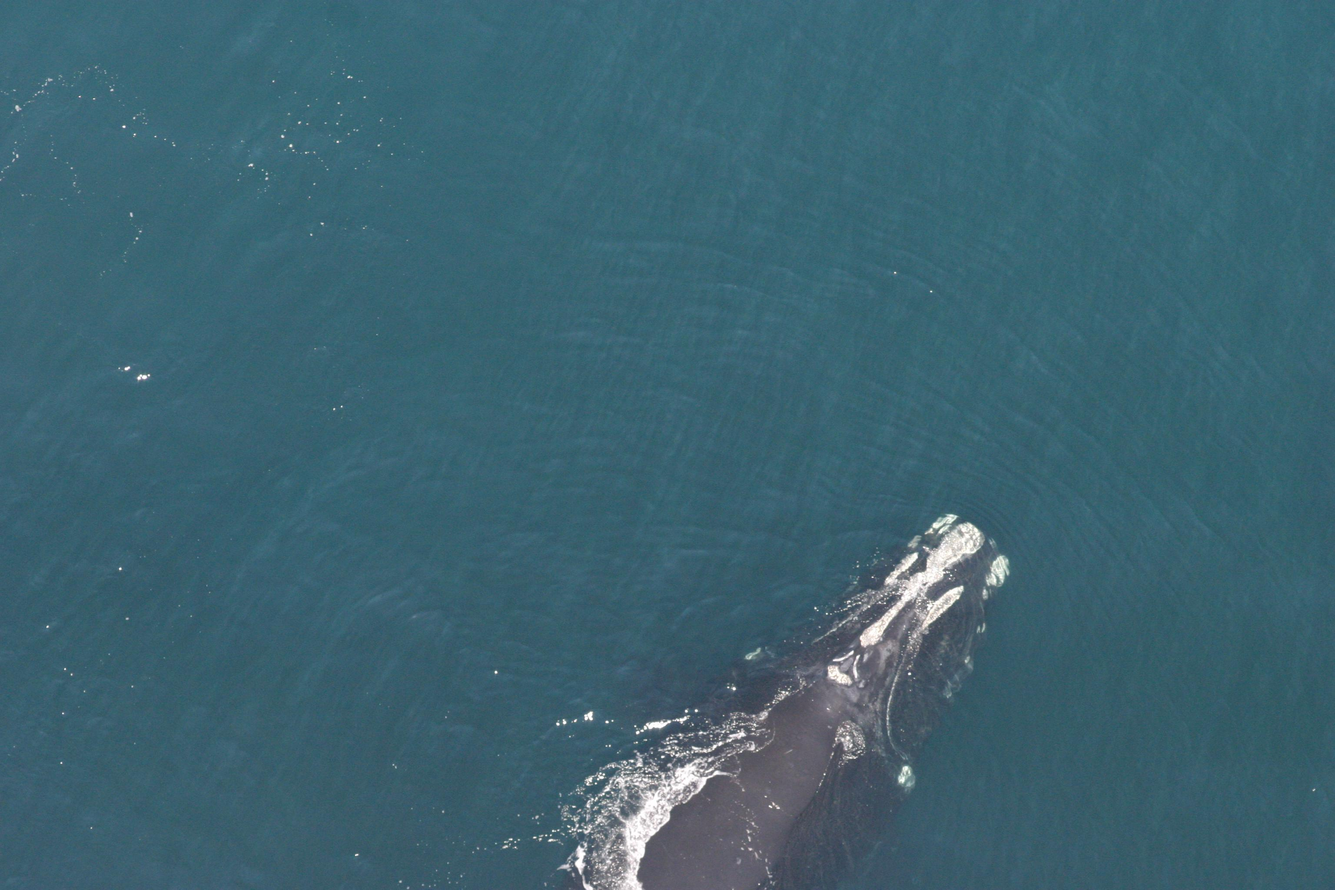whale: (537, 509, 1014, 890)
